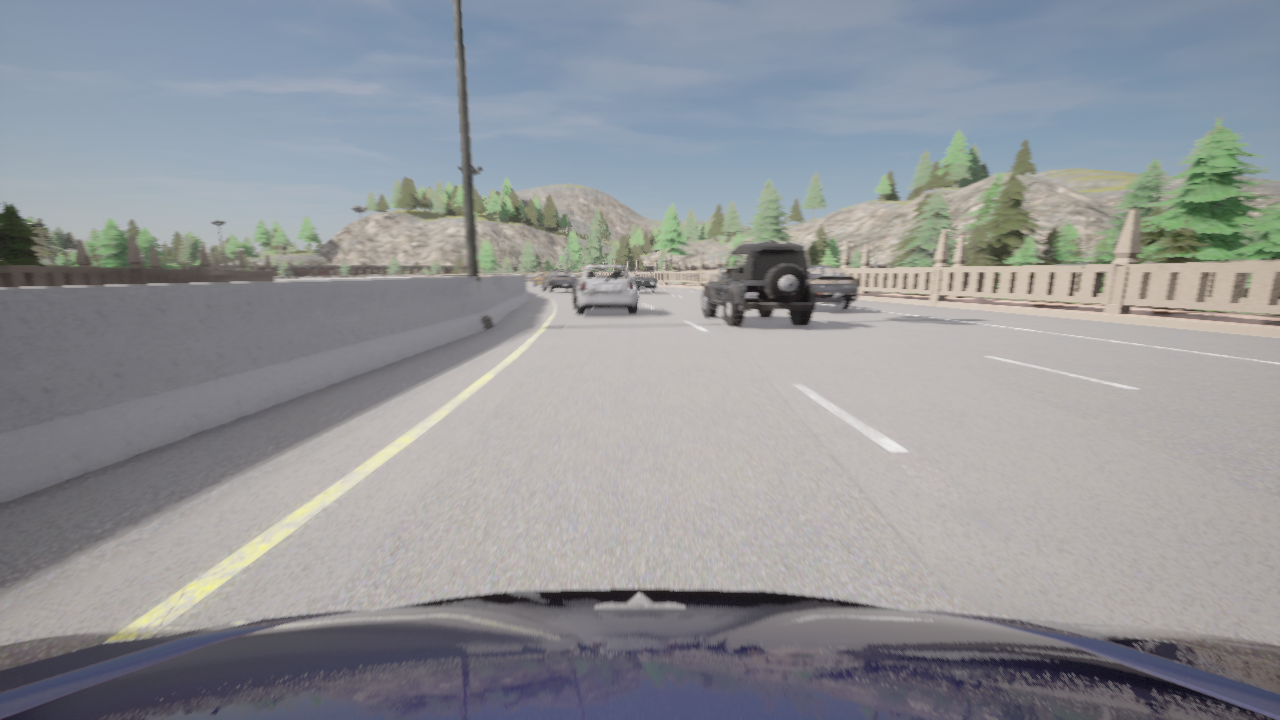cyclist: (0, 588, 1279, 719), (702, 243, 816, 326), (572, 265, 638, 315), (808, 265, 857, 310), (542, 270, 575, 293), (628, 273, 656, 292), (533, 271, 548, 285)
